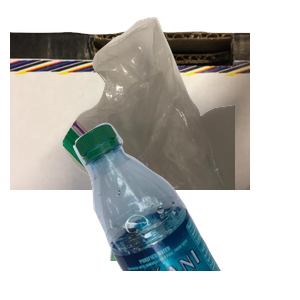cardboard: (10, 29, 250, 209)
glass: (107, 120, 278, 300)
plastic: (71, 120, 300, 300)
trash: (60, 14, 300, 194)
